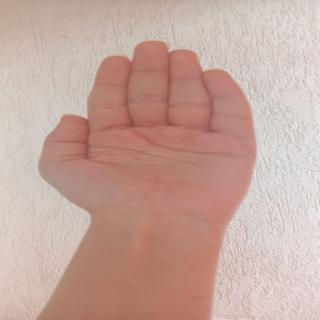SEEN: (32, 36, 268, 215)
